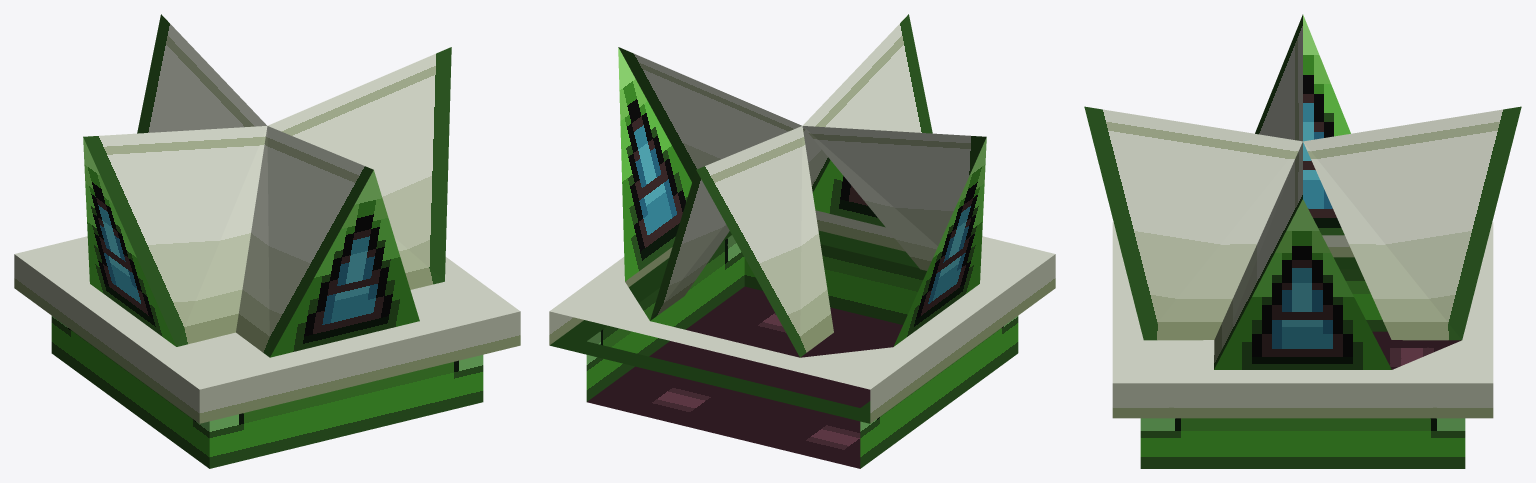
Rendered from top_3.obj.
The picture shows the model from 3 angles, left to right: view 1: azimuth 30°, elevation 25°; view 2: azimuth 150°, elevation 25°; view 3: azimuth 270°, elevation 25°; orthographic projection. The views are drawn at different scales.
Visible parts, largest first — view 1: top_3_part0; view 2: top_3_part0, top_3_part1; view 3: top_3_part0, top_3_part1.
Boxes of the visible parts, x1,y1,x2,y2 form: top_3_part0: [14, 14, 520, 468]; top_3_part0: [549, 14, 1055, 468]; top_3_part1: [587, 286, 902, 468]; top_3_part0: [1084, 14, 1521, 468]; top_3_part1: [1372, 331, 1461, 369].
Size of the model in its own units: 345 by 256 by 345.
Materials: 2 (2 with a texture image).
